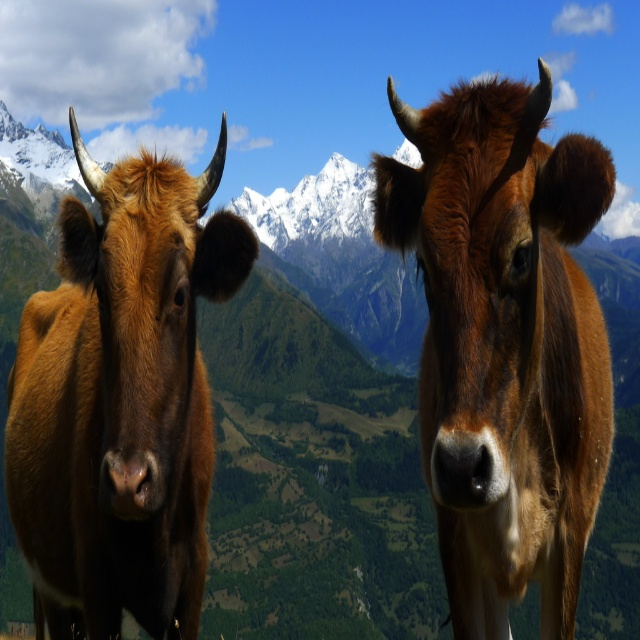Cattle: (364, 55, 619, 636), (4, 111, 258, 639)
